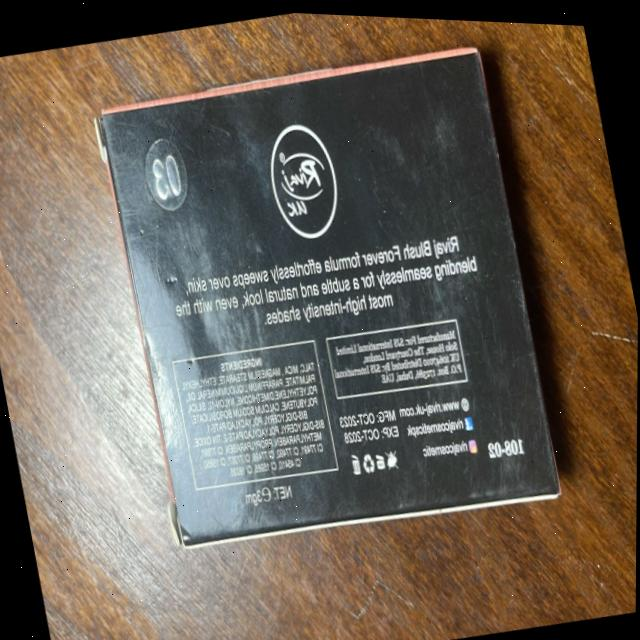makeup: (41, 2, 621, 626)
